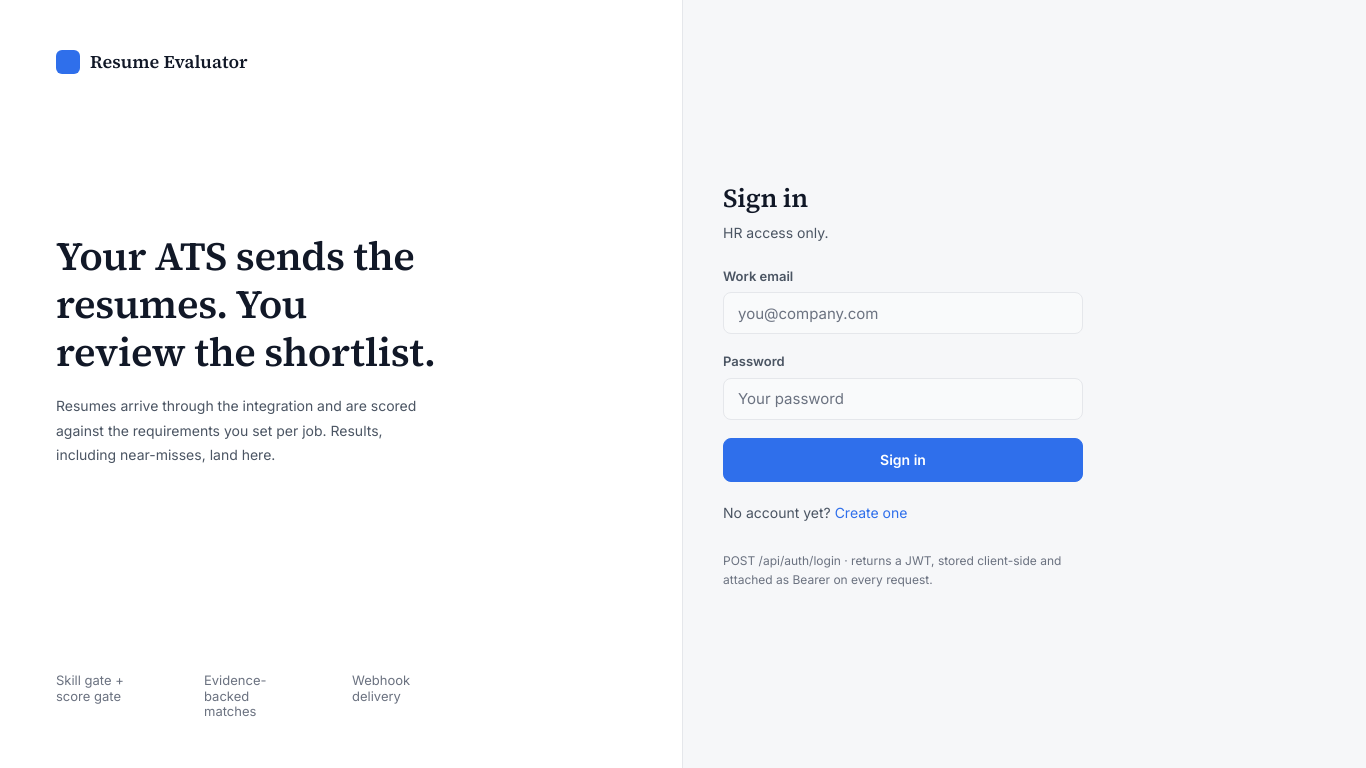
Test: Phase 6 - Login screen › after login, the user returns to the page they were bounced from
Type "priya@northwind.hr" into the field labelled "Work email" at (903, 313), box [723,292,1083,334]
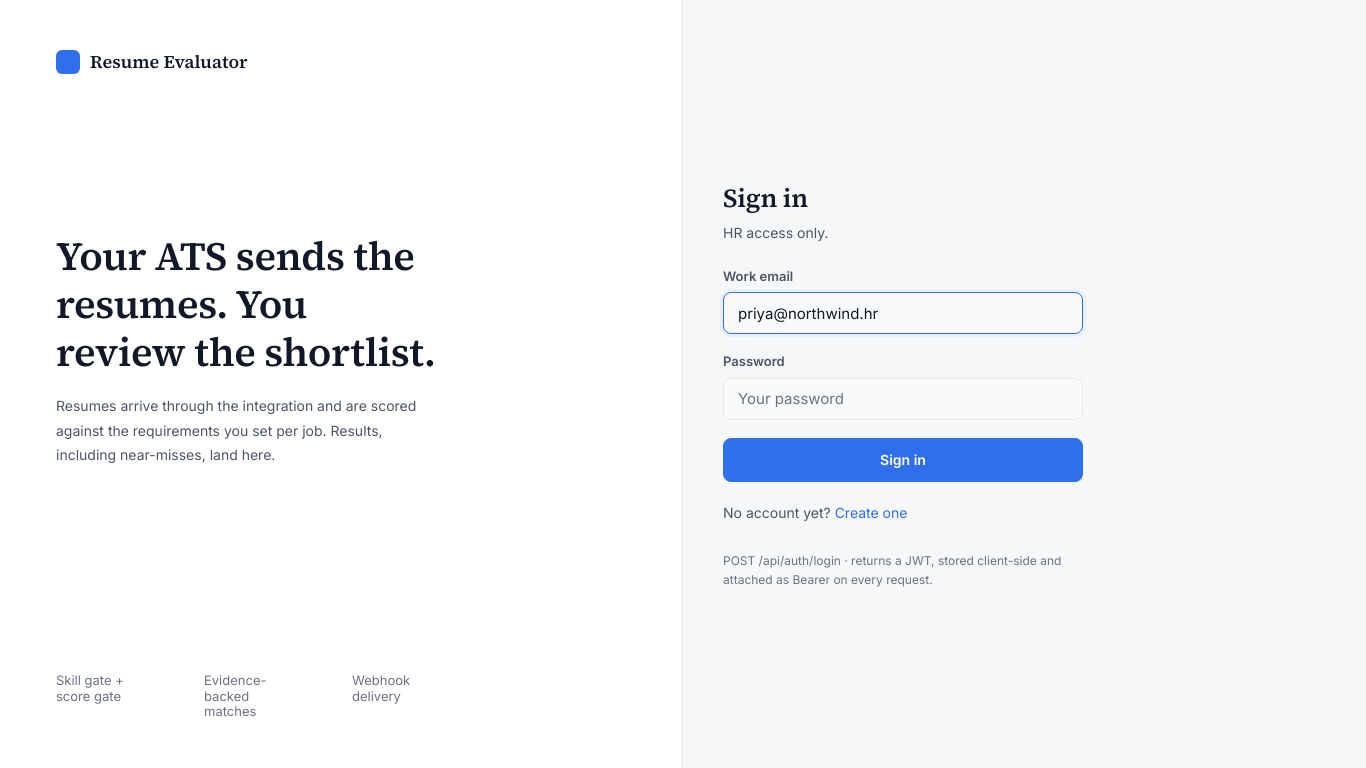
Type "correct horse" into the password field labelled "Password" at (903, 399), box [723,378,1083,420]
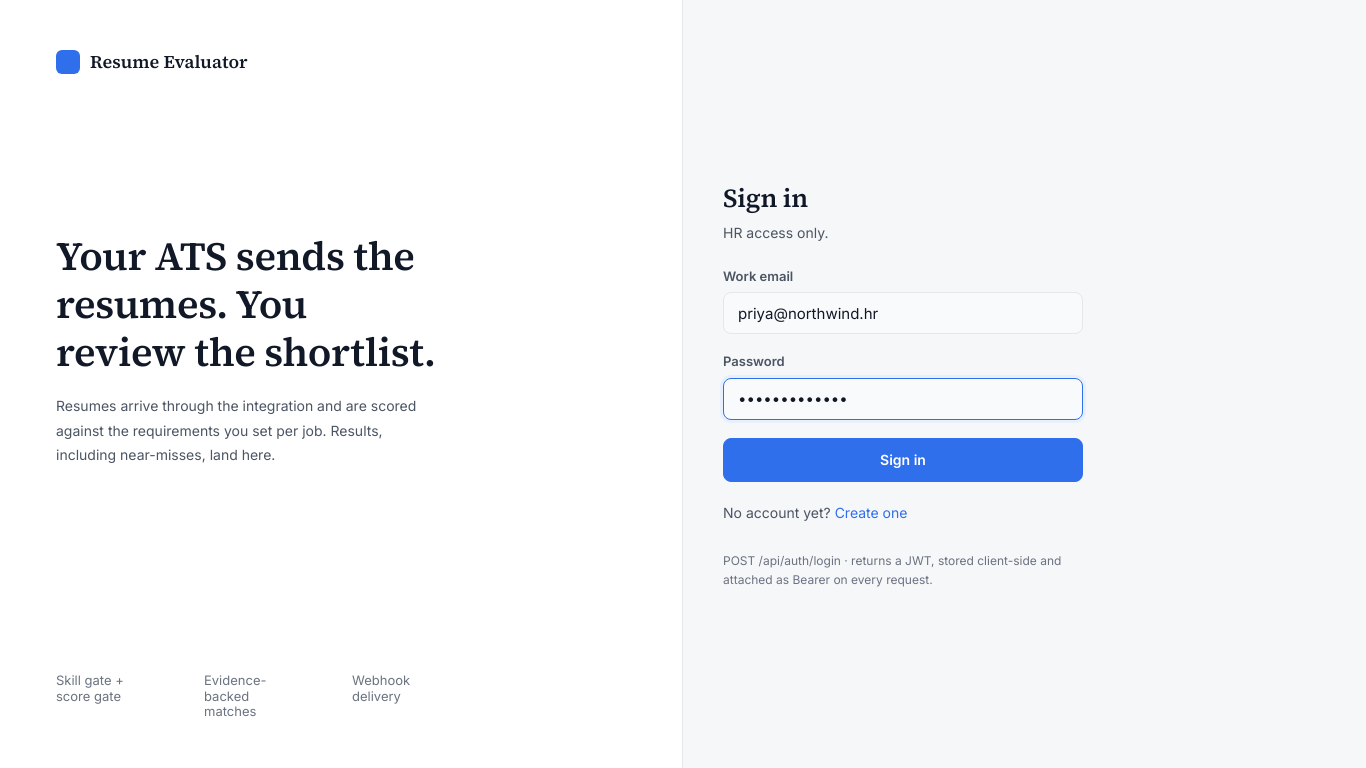
Click the button "Sign in" at (903, 460), box [723,438,1083,482]
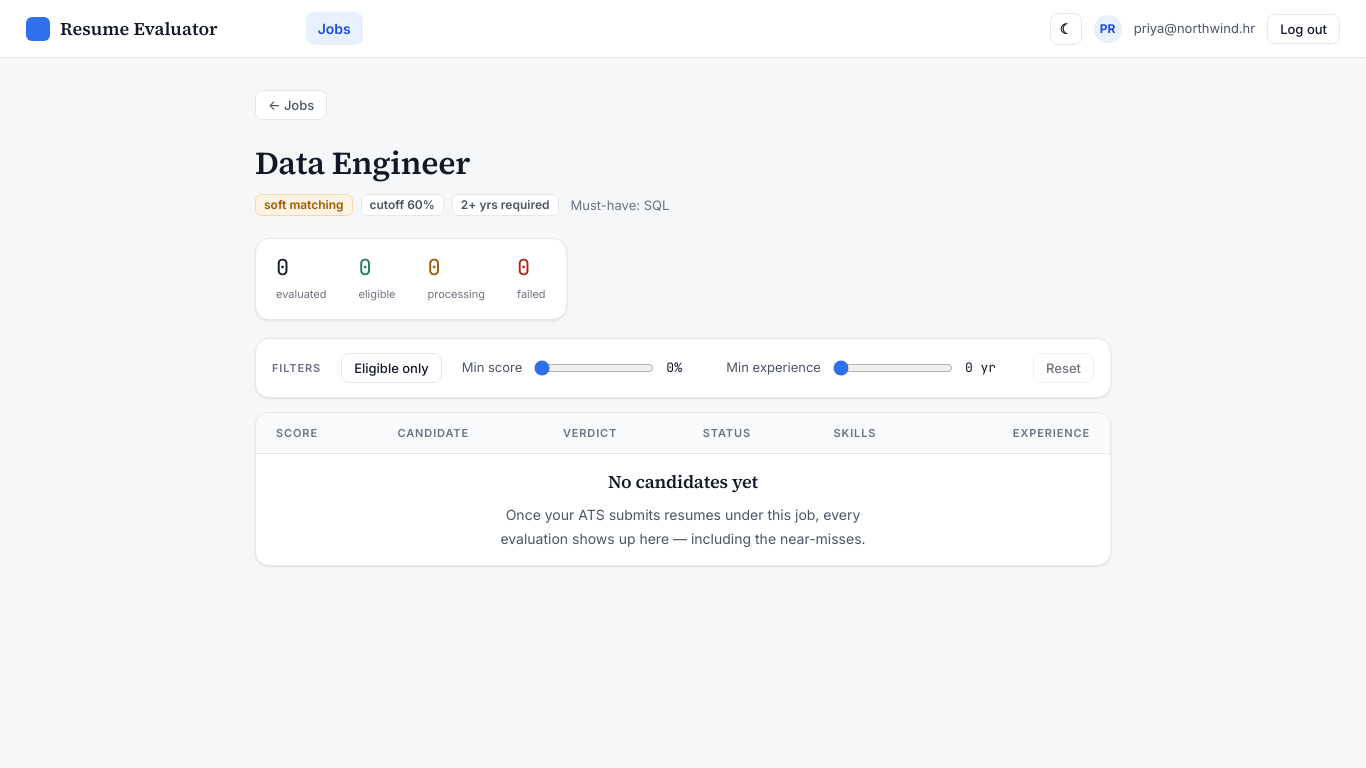
Now the heading "Data Engineer" is shown, box [255,141,470,185]
